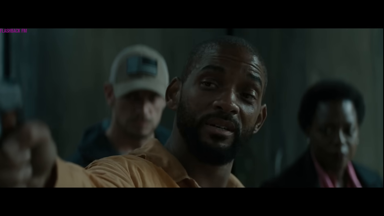firearm: (1, 82, 28, 135)
